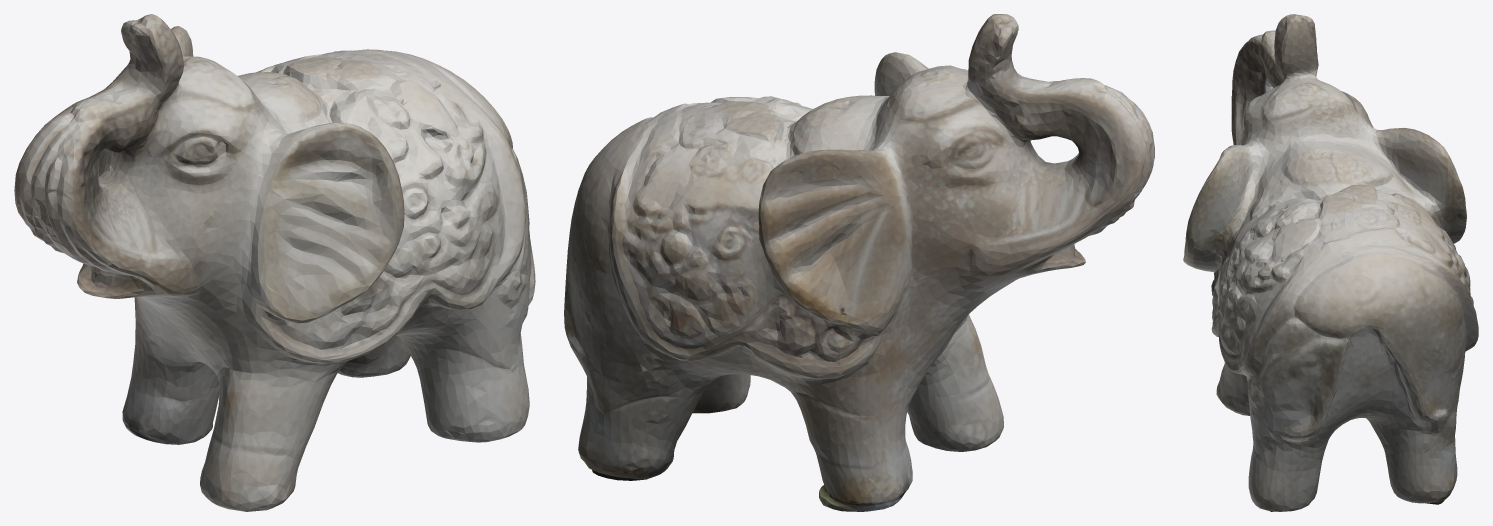
3 renders of one model, left to right at view 1: azimuth 30°, elevation 25°; view 2: azimuth 150°, elevation 25°; view 3: azimuth 270°, elevation 25°, orthographic. The views are drawn at different scales.
Visible parts, largest first — view 1: world; view 2: world; view 3: world.
Boxes of the visible parts, x1,y1,x2,y2 form: world: [14, 14, 535, 511]; world: [564, 14, 1154, 511]; world: [1183, 14, 1478, 511].
Size of the model in its own units: 0.9607 by 0.8313 by 0.6019.
1 material, 1 textured.
